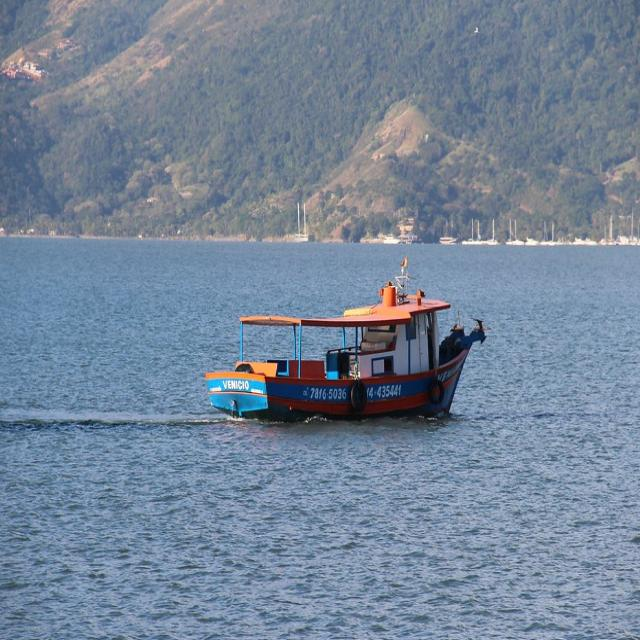fishing boat: (206, 275, 485, 434)
